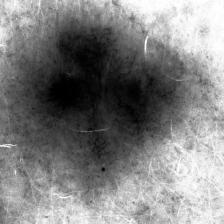Benign Marking or Mole: (42, 19, 182, 176)
